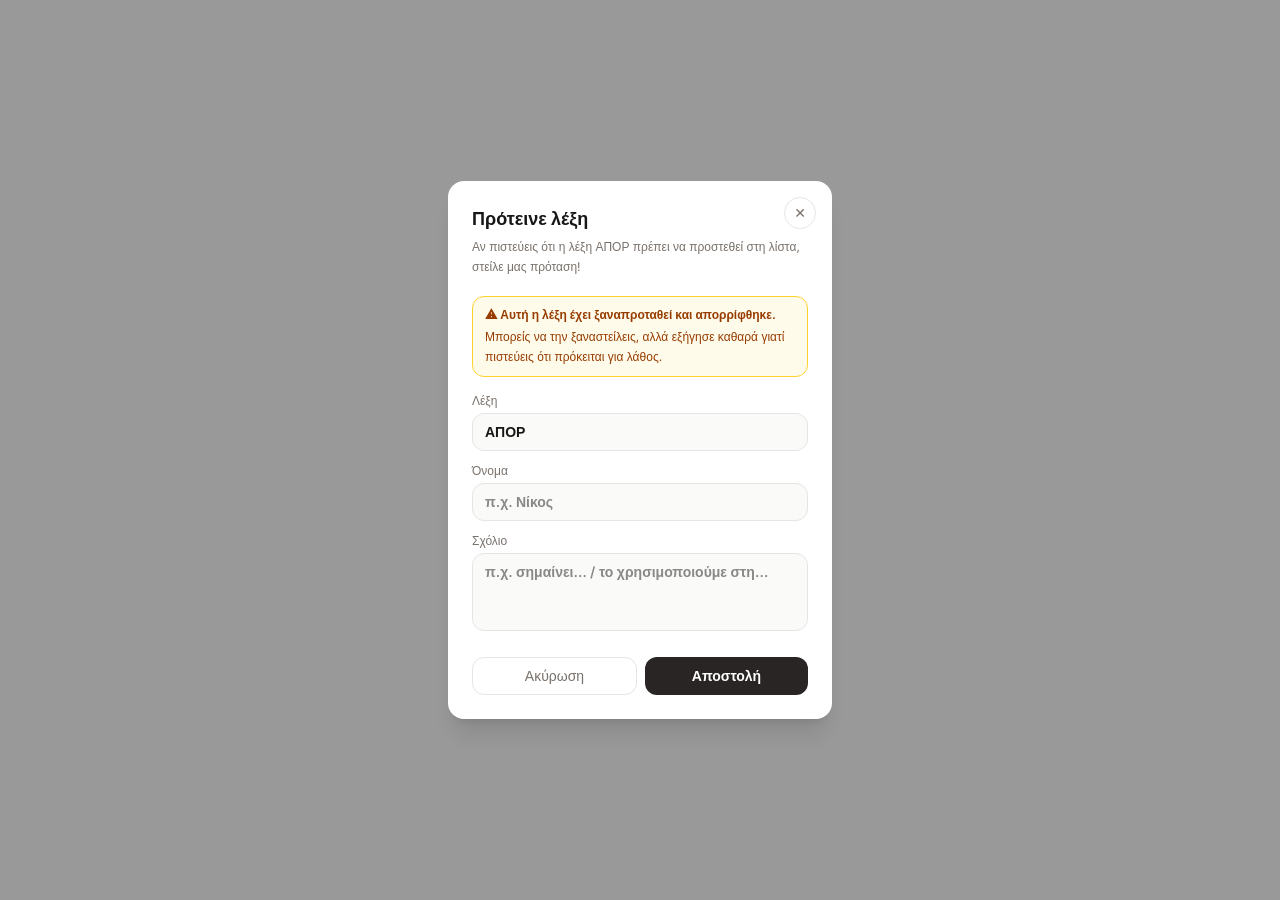
Test: NominationModal — re-proposal warning › warns and refuses to post when a previously-rejected word has no note
Check: the element with test id "nomination-rejected-warning" is shown, box top-left (472, 296), bottom-right (808, 377)
In the field with test id "nomination-modal-name": coordinates (640, 502) top-left (472, 483), bottom-right (808, 521), type "Νίκος"
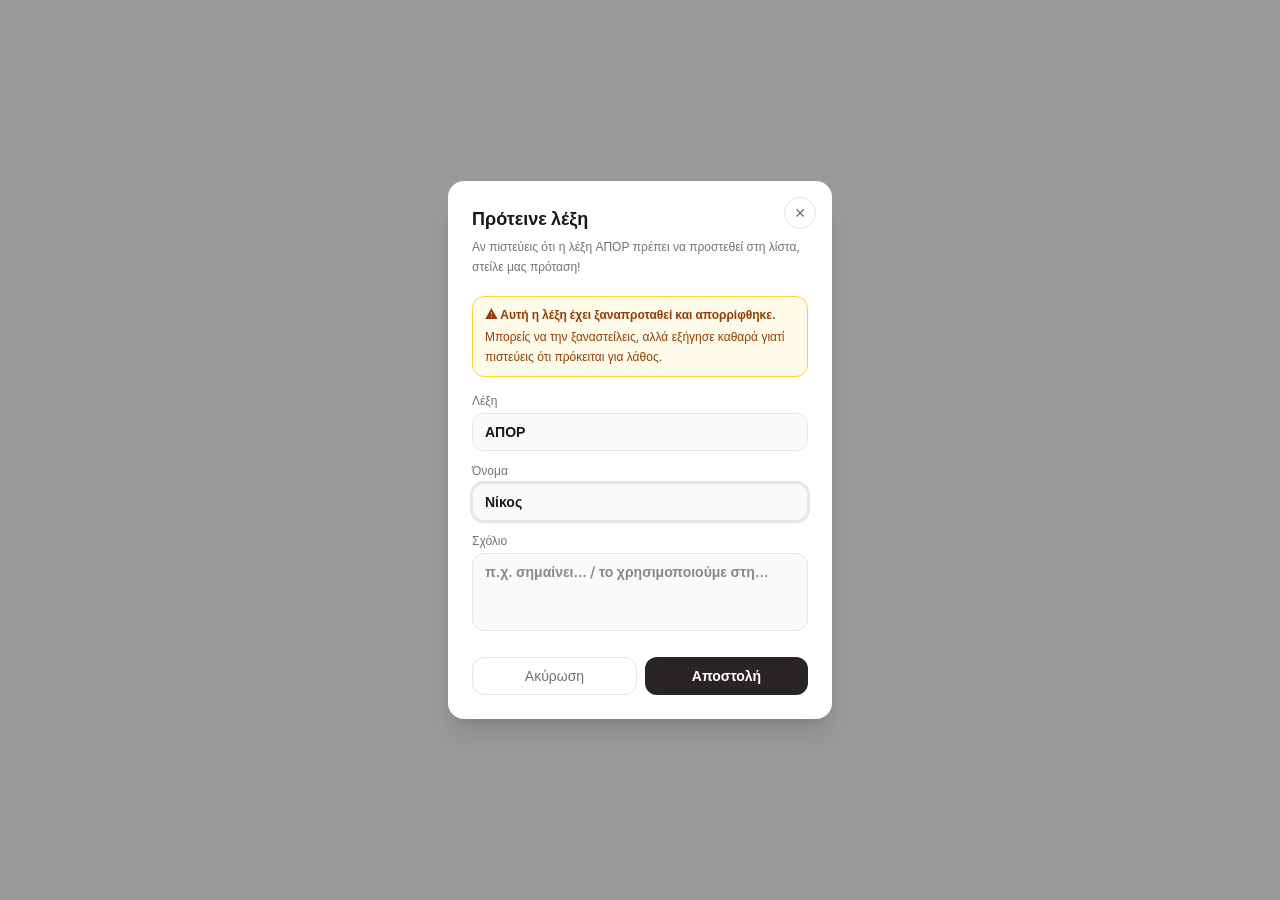
Click the button with test id "nomination-modal-submit": coordinates (726, 676) top-left (645, 657), bottom-right (808, 695)
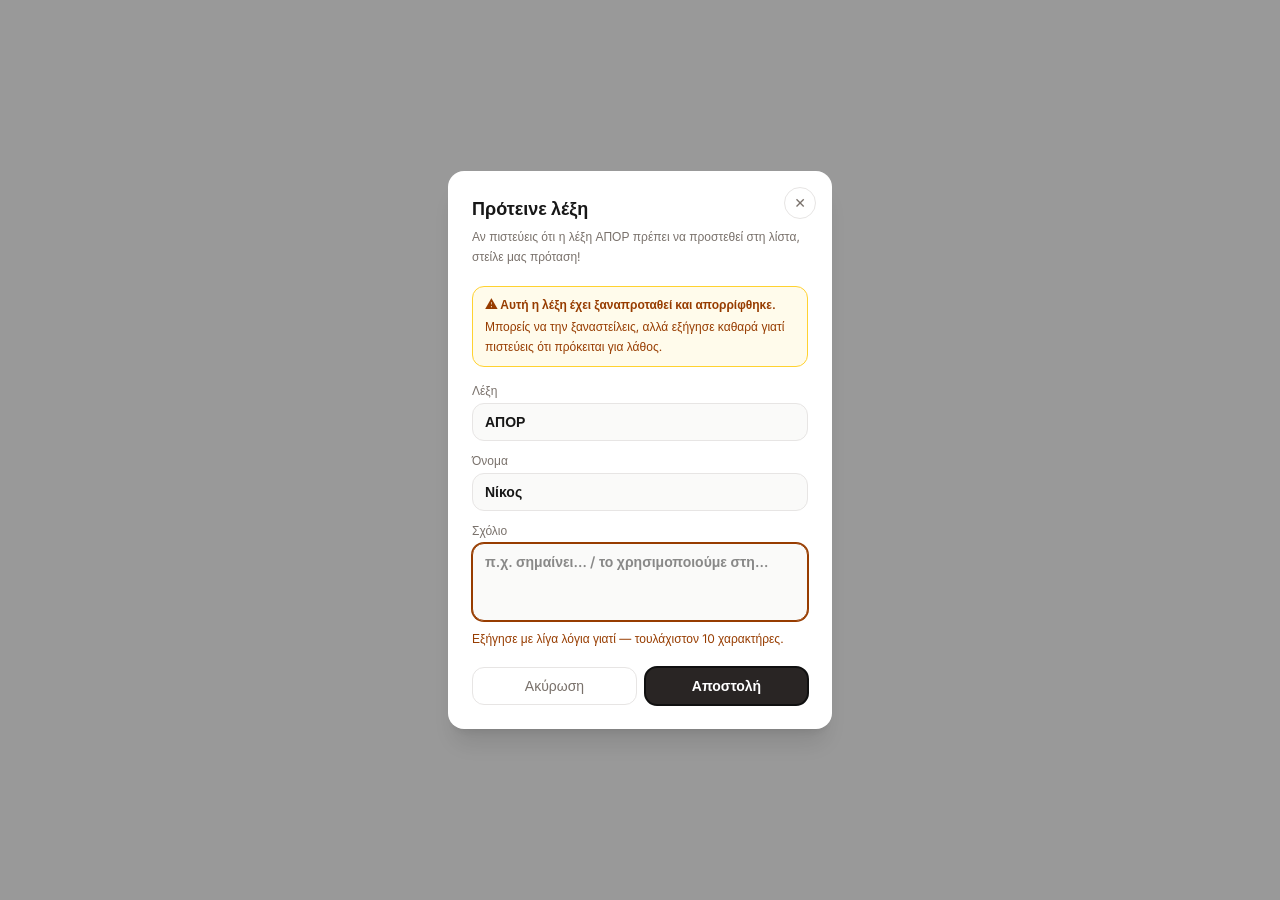
Check: the text "Εξήγησε με λίγα λόγια γιατί — τουλάχιστον 10 χαρακτήρες." is shown, box top-left (472, 631), bottom-right (808, 647)
